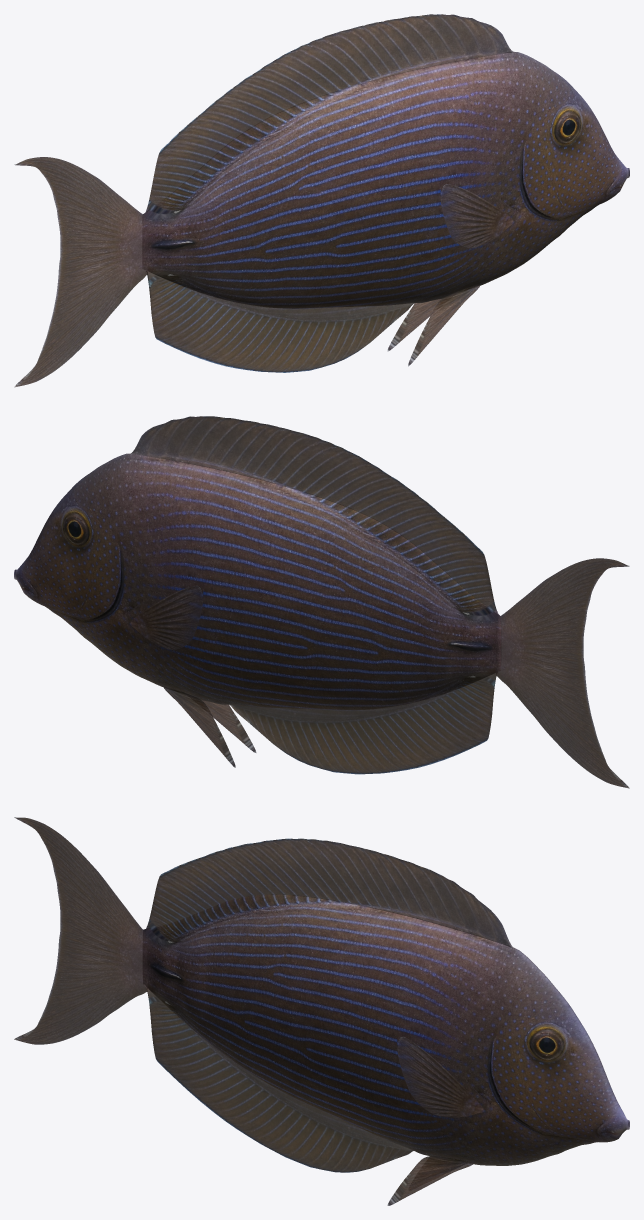
The model's file is strigosus-BppV5rmL.glb.
3 views of the same model, one above another, from view 1: azimuth 30°, elevation 25°; view 2: azimuth 150°, elevation 25°; view 3: azimuth 330°, elevation 25° (orthographic).
Visible parts, largest first — view 1: strigosus__body, strigosus__fin_1, strigosus__fin_2, strigosus__fin_0, strigosus__gill_1, strigosus__pectoral_1, strigosus__pelvic_1, strigosus__pelvic_-1, strigosus__eye_1; view 2: strigosus__body, strigosus__fin_1, strigosus__fin_2, strigosus__fin_0, strigosus__gill_-1, strigosus__pectoral_-1, strigosus__pelvic_-1, strigosus__pelvic_1, strigosus__eye_-1; view 3: strigosus__body, strigosus__fin_1, strigosus__fin_2, strigosus__fin_0, strigosus__gill_1, strigosus__pectoral_1, strigosus__pelvic_1, strigosus__eye_1.
Boxes of the visible parts, box(x1,y1,x2,y2) form: strigosus__body: box(143, 52, 629, 308); strigosus__fin_1: box(144, 14, 513, 214); strigosus__fin_2: box(145, 269, 413, 372); strigosus__fin_0: box(14, 157, 148, 387); strigosus__gill_1: box(522, 104, 568, 235); strigosus__pectoral_1: box(440, 184, 513, 248); strigosus__pelvic_1: box(408, 285, 479, 366); strigosus__pelvic_-1: box(387, 299, 441, 351); strigosus__eye_1: box(555, 111, 579, 143); strigosus__body: box(14, 453, 501, 710); strigosus__fin_1: box(131, 416, 498, 614); strigosus__fin_2: box(229, 672, 497, 774); strigosus__fin_0: box(496, 558, 629, 788); strigosus__gill_-1: box(75, 506, 121, 636); strigosus__pectoral_-1: box(130, 585, 203, 649); strigosus__pelvic_-1: box(163, 686, 235, 767); strigosus__pelvic_1: box(201, 700, 256, 752); strigosus__eye_-1: box(64, 513, 88, 545); strigosus__body: box(143, 894, 629, 1165); strigosus__fin_1: box(144, 838, 513, 948); strigosus__fin_2: box(144, 984, 413, 1172); strigosus__fin_0: box(14, 817, 148, 1044); strigosus__gill_1: box(497, 1010, 545, 1135); strigosus__pectoral_1: box(397, 1036, 483, 1117); strigosus__pelvic_1: box(387, 1156, 473, 1205); strigosus__eye_1: box(530, 1029, 562, 1060).
Size of the model in its own units: 1.27 by 0.6748 by 0.1558.
Materials: 5 (5 with a texture image).
